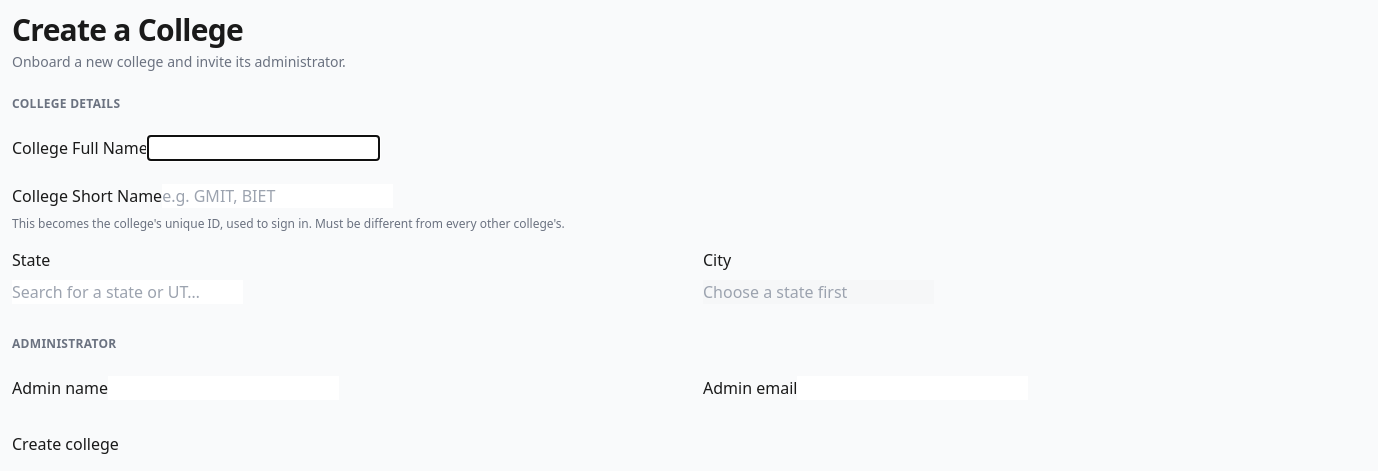
it: CreateCollege › clears the selected City and disables it again when the State changes
The image size is (1378, 471).
Type "Karnat" into the dropdown labelled "State" at (128, 292), box [12,280,243,304]
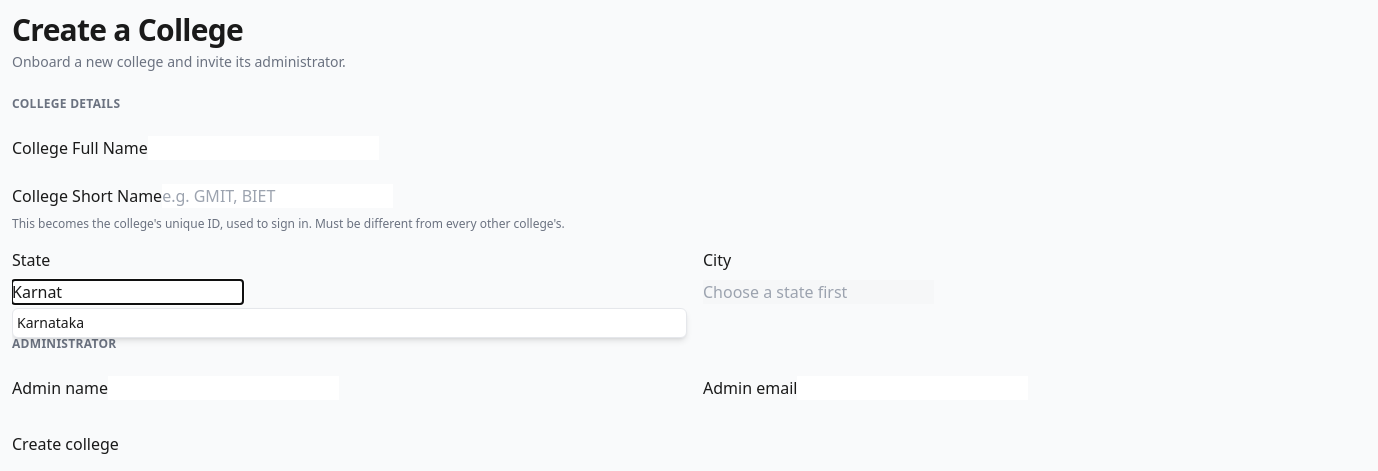
Click the option "Karnataka" at (50, 322), box [17,313,84,332]
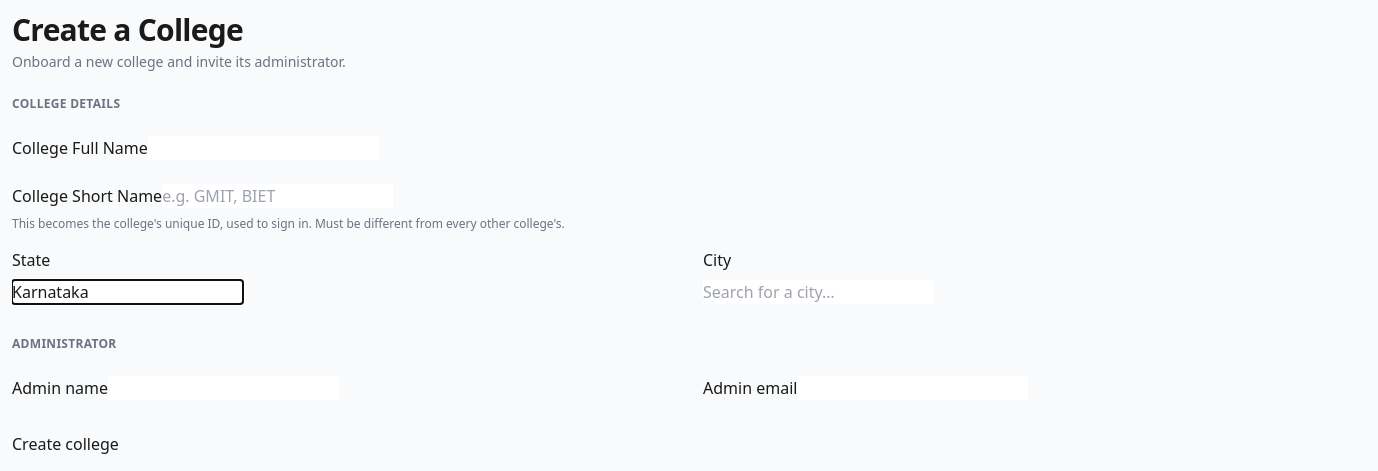
Type "Bengal" into the dropdown labelled "City" at (818, 292), box [703,280,934,304]
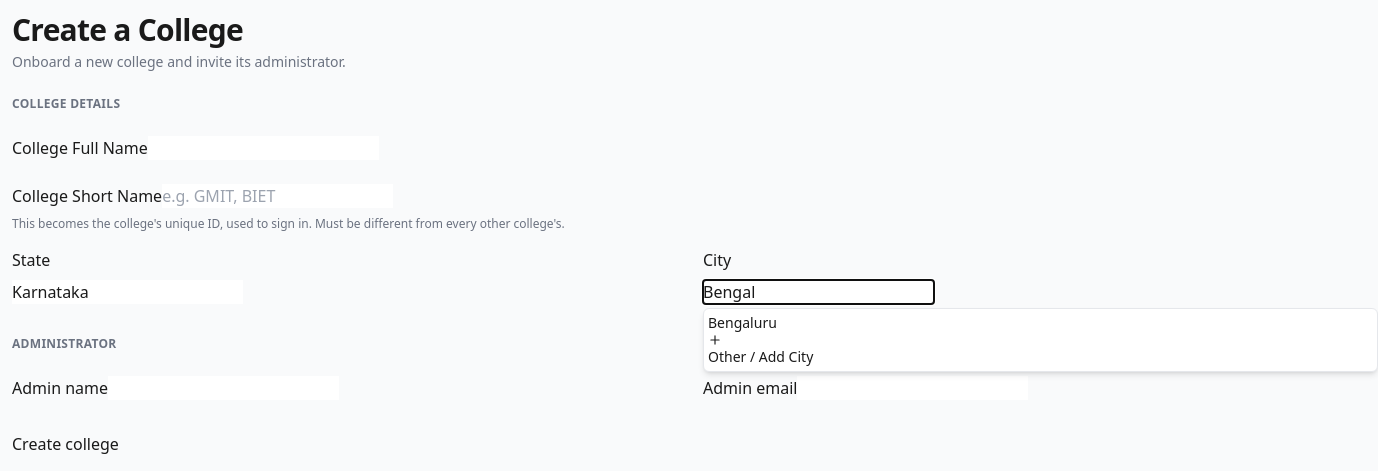
Click the option "Bengaluru" at (742, 322), box [708,313,777,332]
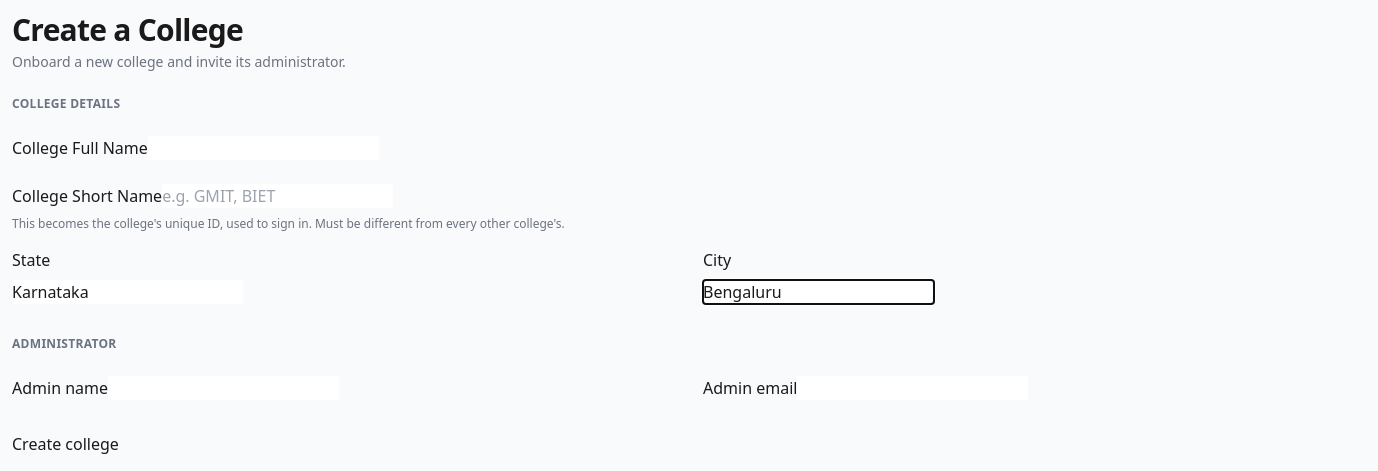
Now the dropdown labelled "City" holds "Bengaluru", box [703,280,934,304]
Type "Maharas" into the dropdown labelled "State" at (128, 292), box [12,280,243,304]
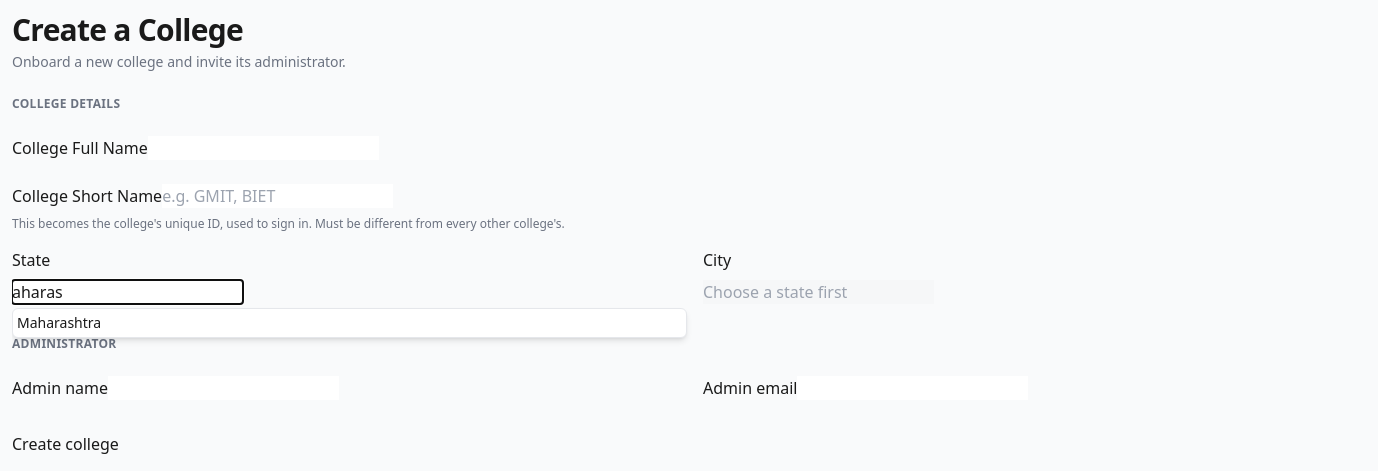
Click the option "Maharashtra" at (59, 322), box [17,313,101,332]
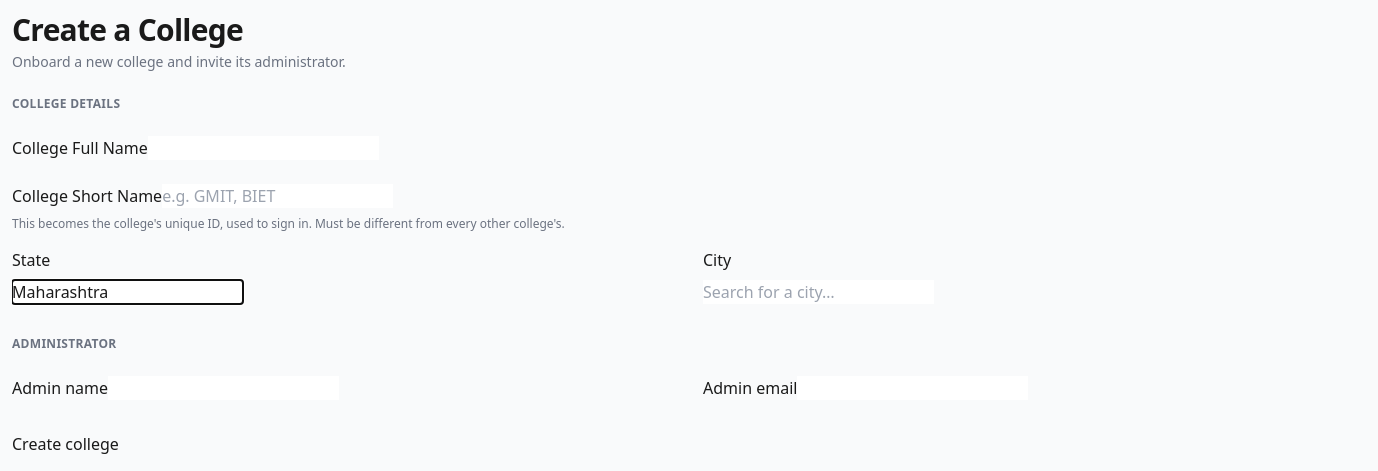
Now the dropdown labelled "City" is empty, box [703,280,934,304]
Now the dropdown labelled "City" is enabled, box [703,280,934,304]
